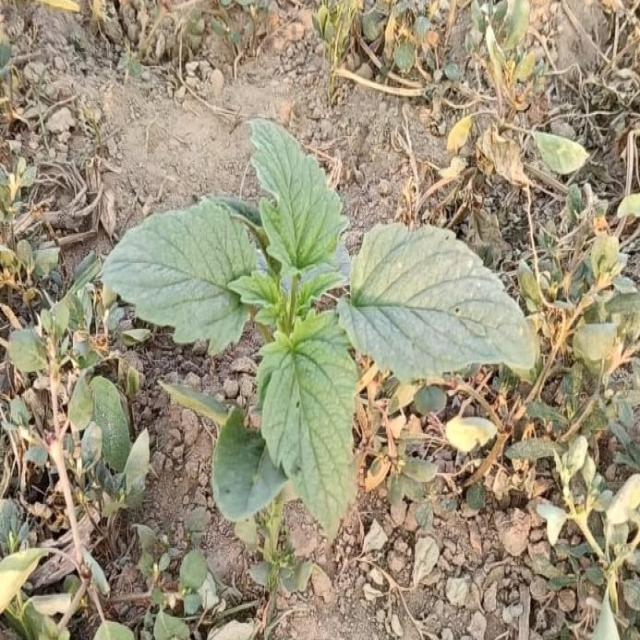plant: (102, 119, 536, 537)
